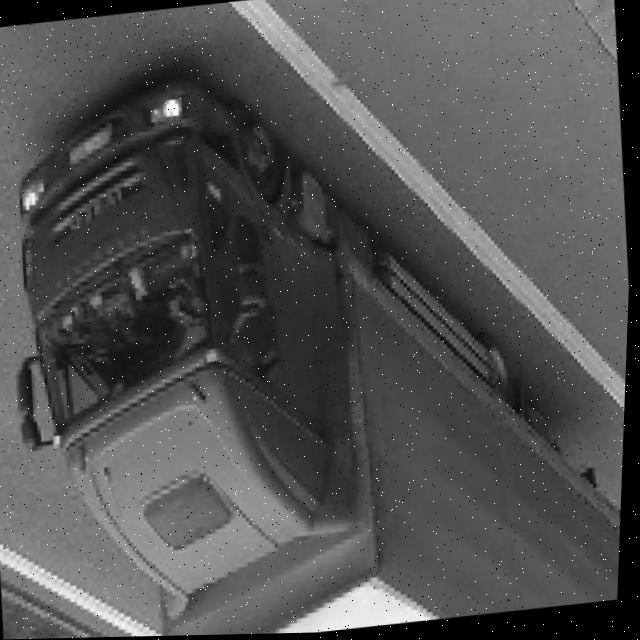truck: (1, 48, 422, 640)
